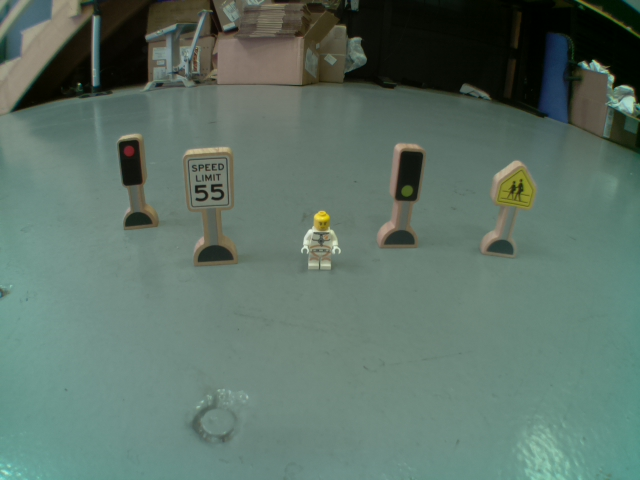Green Traffic Light: (392, 144, 424, 204)
Red Traffic Light: (111, 134, 149, 190)
Speed Limit 55: (178, 150, 234, 210)
YIELD: (494, 157, 534, 211)
person: (298, 209, 344, 274)
